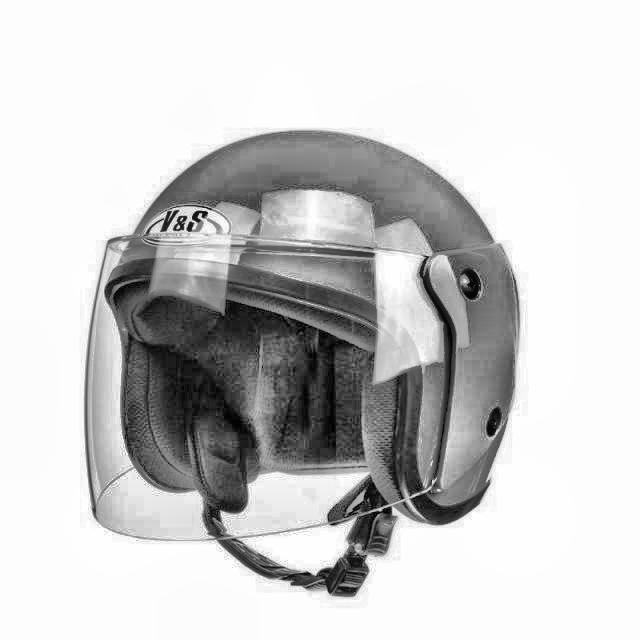Helmet: (70, 117, 526, 608)
